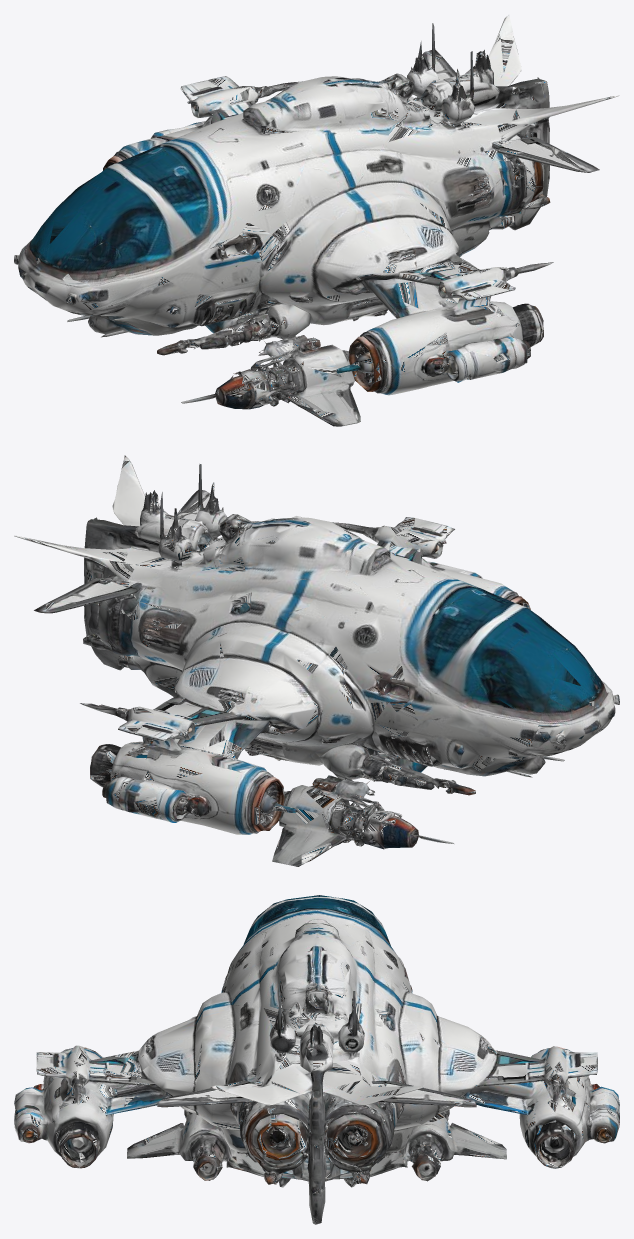
Rendered from azure-voyager.glb.
The picture shows the model from 3 angles, top to bottom: view 1: azimuth 30°, elevation 25°; view 2: azimuth 150°, elevation 25°; view 3: azimuth 270°, elevation 25°; orthographic projection. The views are drawn at different scales.
Size of the model in its own units: 1.88 by 0.9165 by 1.9.
Materials: 1 (1 with a texture image).
